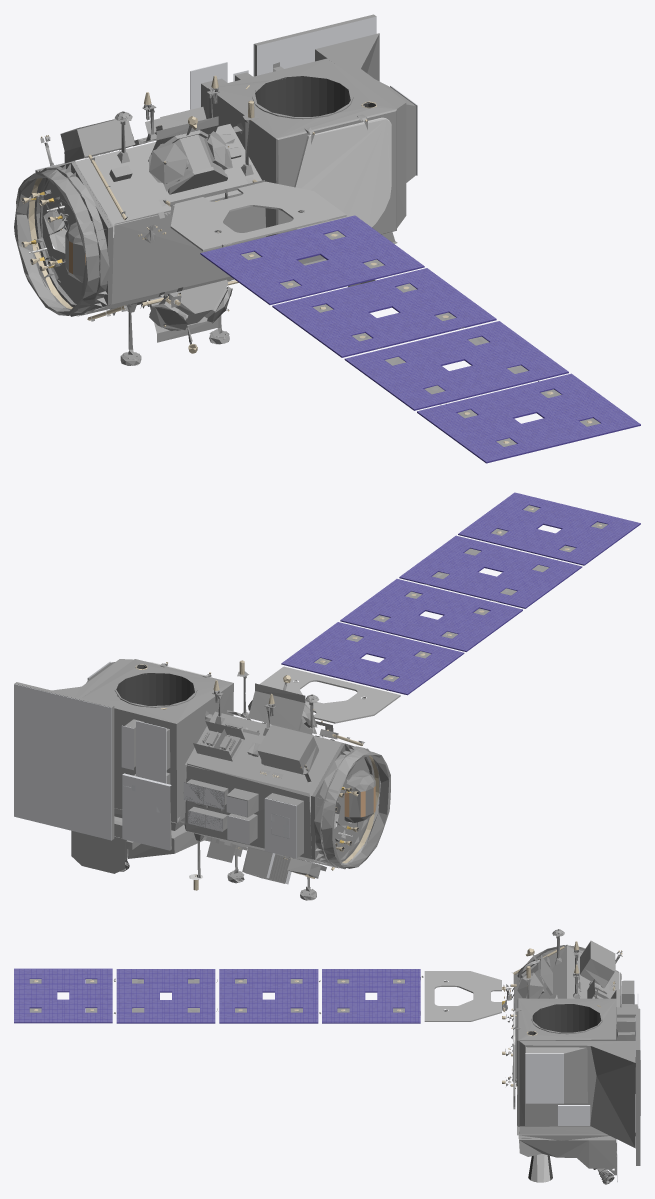
The model's file is icesat2.glb.
The picture shows the model from 3 angles, top to bottom: view 1: azimuth 30°, elevation 25°; view 2: azimuth 150°, elevation 25°; view 3: azimuth 270°, elevation 25°; orthographic projection. The views are drawn at different scales.
Visible parts, largest first — view 1: MainBus; view 2: MainBus; view 3: MainBus.
Boxes of the visible parts, box(x1,y1,x2,y2) form: MainBus: box(14, 14, 640, 463); MainBus: box(14, 492, 640, 900); MainBus: box(14, 929, 640, 1184).
Size of the model in its own units: 3.74 by 2.38 by 7.56.
